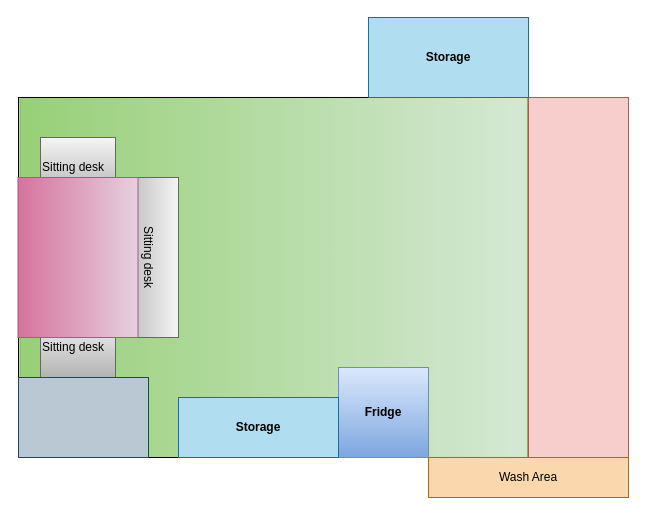
Image size: 646x515. Some labels were removed from this diagram. The shapes that lost their labels are listed below. From the top down, each one's box as (x1, y1, x2, y2) in pixels, then its label:
(17, 176, 138, 338): Dining Table
(19, 96, 527, 457): Free Space
(528, 96, 628, 458): Platform
(18, 376, 148, 458): Room passage
